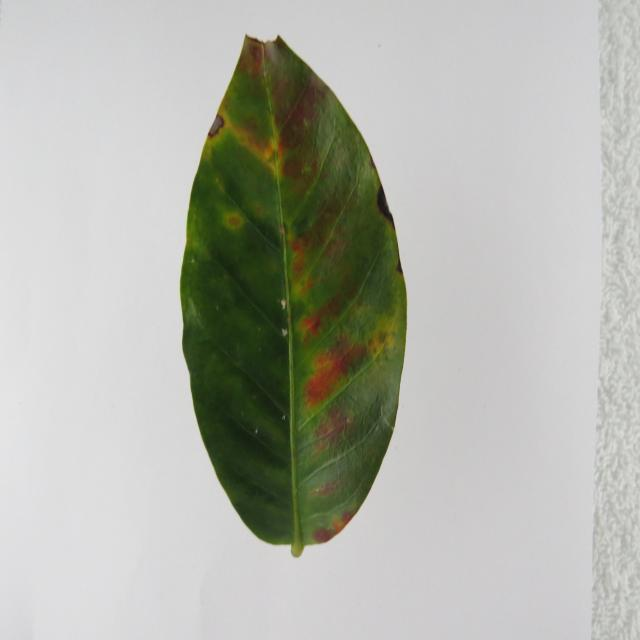DeficienciaNutricional-Fosforo: (181, 37, 406, 557)
